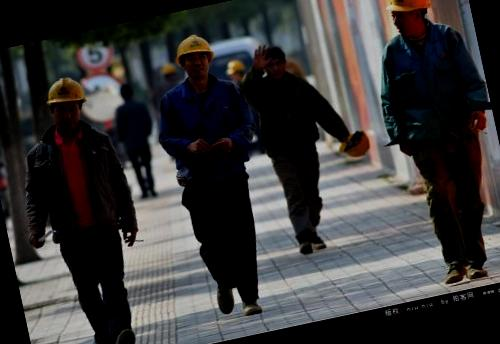no_helmet: (256, 38, 295, 85)
